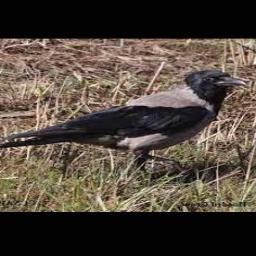Crow: (0, 69, 245, 175)
